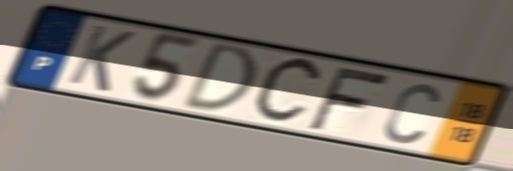5: (127, 28, 206, 106)
C: (247, 55, 328, 127), (381, 80, 443, 146)
D: (177, 40, 259, 115)
F: (305, 63, 395, 132)
K: (63, 22, 139, 95)
